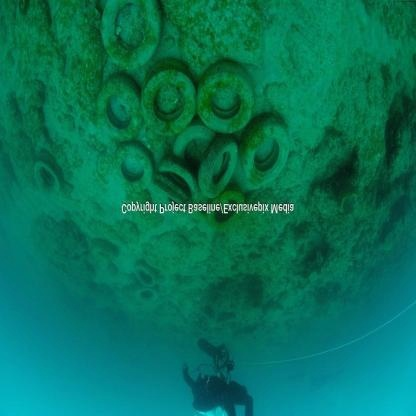tire: (129, 62, 203, 140), (193, 60, 257, 136), (232, 113, 290, 191), (96, 3, 166, 67), (90, 76, 140, 139), (196, 188, 250, 240), (198, 139, 235, 198), (150, 157, 191, 205), (110, 141, 142, 198), (167, 128, 213, 163), (28, 152, 64, 194), (86, 236, 124, 266), (126, 260, 158, 286), (127, 289, 160, 306)
